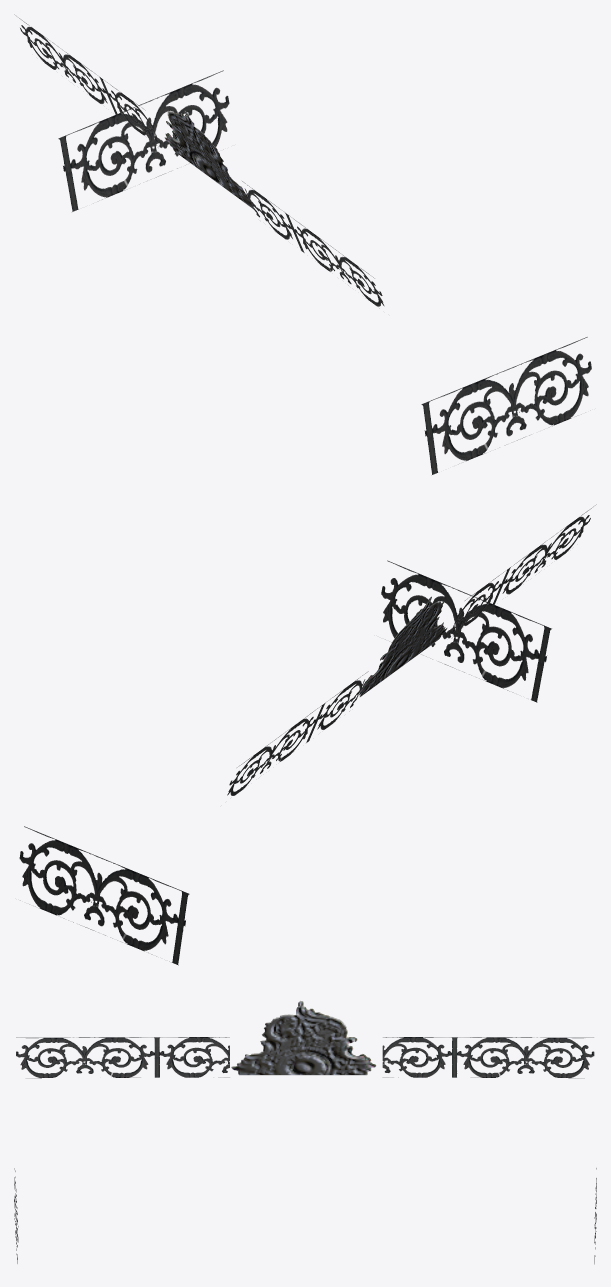
Rendered from M_Home_Garden_Couch_07_Broken_Part1.fbx.
The picture shows the model from 3 angles, top to bottom: view 1: azimuth 30°, elevation 25°; view 2: azimuth 150°, elevation 25°; view 3: azimuth 270°, elevation 25°; orthographic projection. The views are drawn at different scales.
Visible parts, largest first — view 1: M_Home_Garden_Couch_07_Broken_Part1; view 2: M_Home_Garden_Couch_07_Broken_Part1; view 3: M_Home_Garden_Couch_07_Broken_Part1.
Boxes of the visible parts, bbox=[...] form: M_Home_Garden_Couch_07_Broken_Part1: bbox=[14, 14, 591, 475]; M_Home_Garden_Couch_07_Broken_Part1: bbox=[19, 504, 596, 965]; M_Home_Garden_Couch_07_Broken_Part1: bbox=[14, 1000, 596, 1264].
Bounding box in the file's own units: 72.86 × 76.12 × 194.
